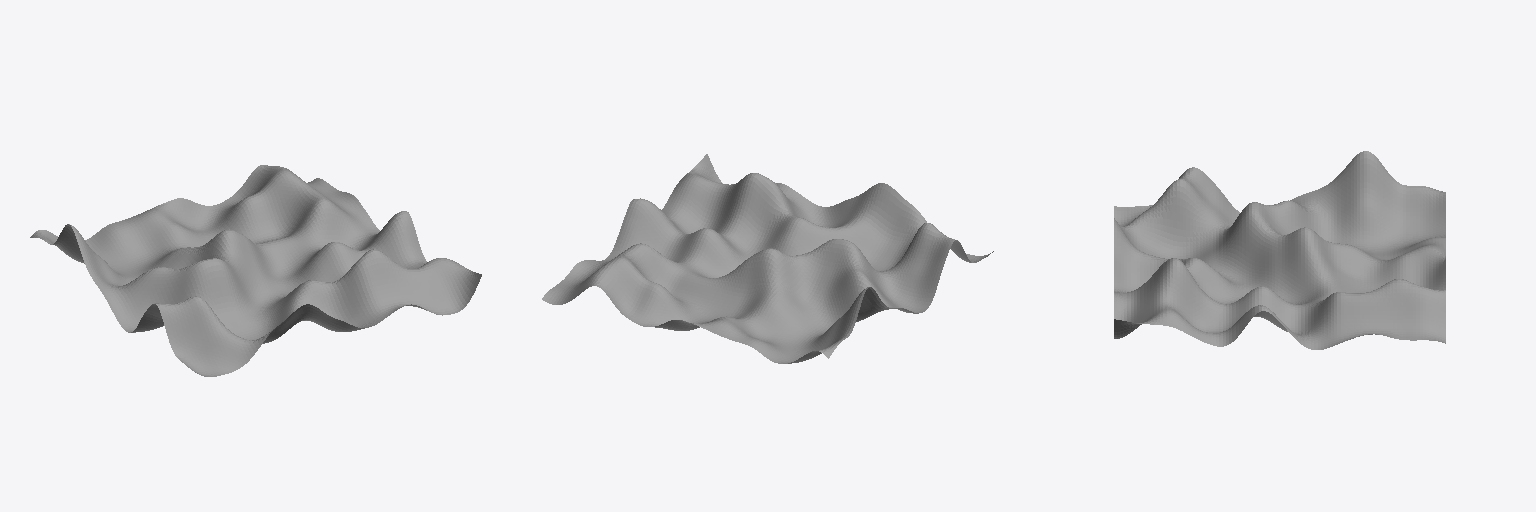
Rendered from perline_noise.obj.
3 renders of one model, left to right at view 1: azimuth 30°, elevation 25°; view 2: azimuth 150°, elevation 25°; view 3: azimuth 270°, elevation 25°, orthographic.
Parts seen in each view (by area): view 1: output; view 2: output; view 3: output.
Boxes of the visible parts, x1,y1,x2,y2 form: output: [30, 165, 481, 376]; output: [542, 154, 993, 363]; output: [1114, 151, 1445, 349].
Bounding box in the file's own units: 15 × 3.5 × 15.